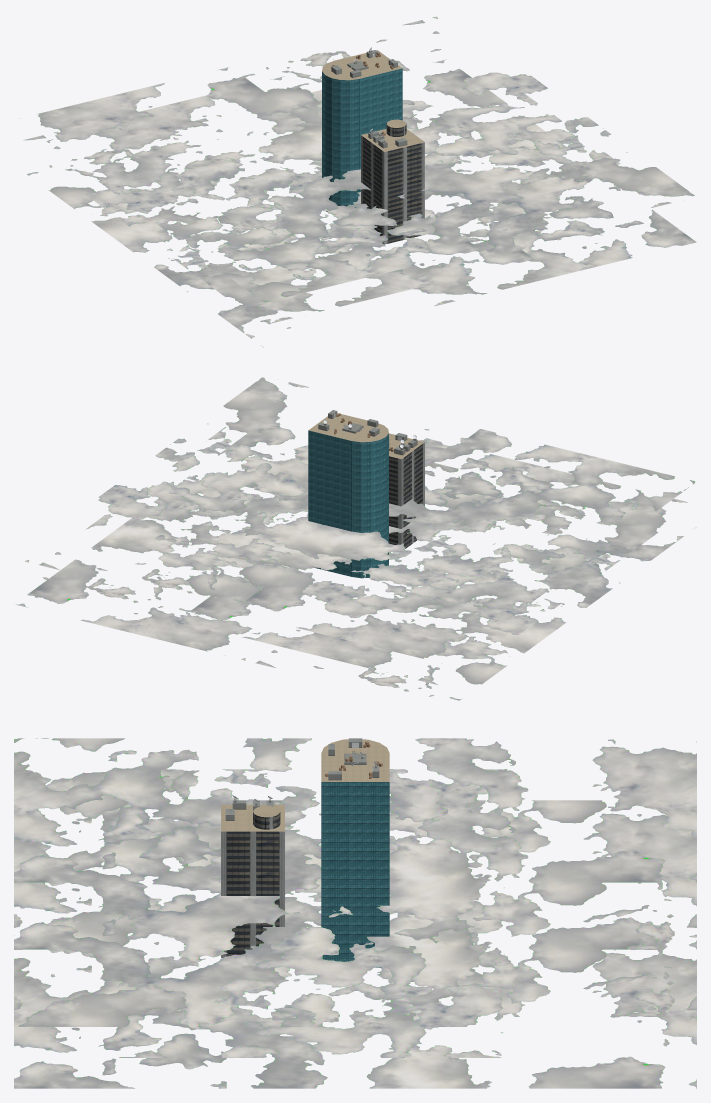
Rendered from Map_3.dae.
3 renders of one model, top to bottom at view 1: azimuth 30°, elevation 25°; view 2: azimuth 150°, elevation 25°; view 3: azimuth 270°, elevation 25°, orthographic. The views are drawn at different scales.
Visible parts, largest first — view 1: Plane, Map_3; view 2: Plane, Map_3; view 3: Plane, Map_3.
Boxes of the visible parts, x1=… form: Plane: x1=20, y1=16, x2=696, y2=347; Map_3: x1=322, y1=47, x2=424, y2=244; Plane: x1=16, y1=377, x2=696, y2=700; Map_3: x1=308, y1=410, x2=424, y2=578; Plane: x1=14, y1=738, x2=696, y2=1088; Map_3: x1=221, y1=738, x2=389, y2=967.
Size of the model in its own units: 100 by 100 by 32.03.
